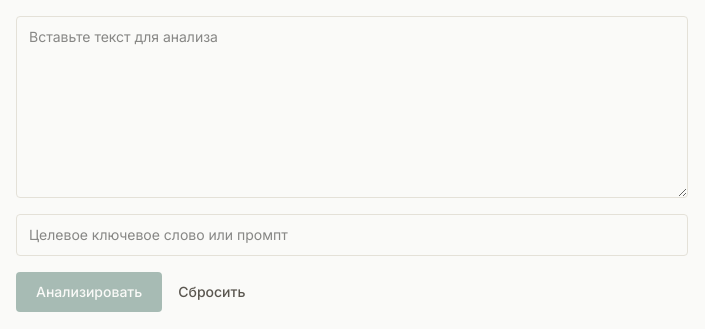
Scenario: TextModePanel › Сбросить button is disabled while analysis is loading
In the text box with placeholder "Вставьте текст для анализа": (352, 107) x1=16 y1=16 x2=688 y2=198, type "some text for analysis"
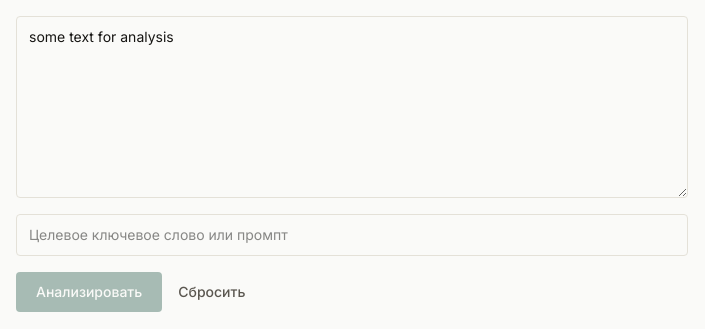
In the field with placeholder "Целевое ключевое слово или промпт": (352, 235) x1=16 y1=214 x2=688 y2=256, type "keyword"
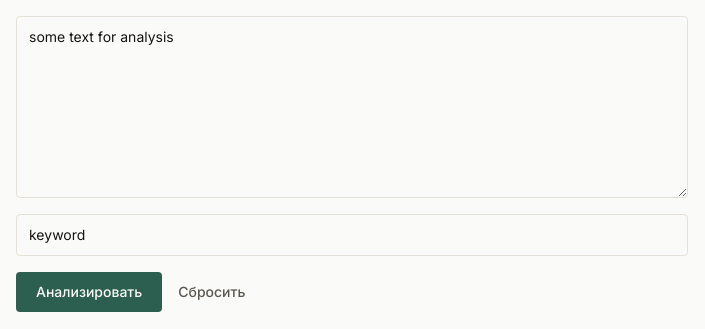
Click the button "Анализировать": (89, 292) x1=16 y1=272 x2=162 y2=312
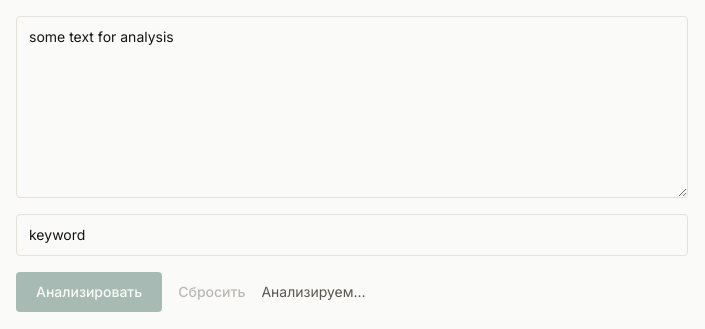
Now the button "Сбросить" is disabled, box x1=178 y1=282 x2=245 y2=302
